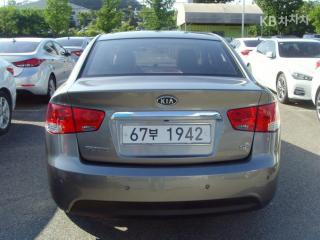1: (165, 127, 175, 143)
2: (194, 126, 205, 141)
4: (185, 126, 195, 142)
6: (128, 126, 140, 143)
7: (138, 125, 149, 143)
9: (173, 125, 185, 142)
plate: (111, 118, 217, 150)
부: (149, 127, 159, 142)
